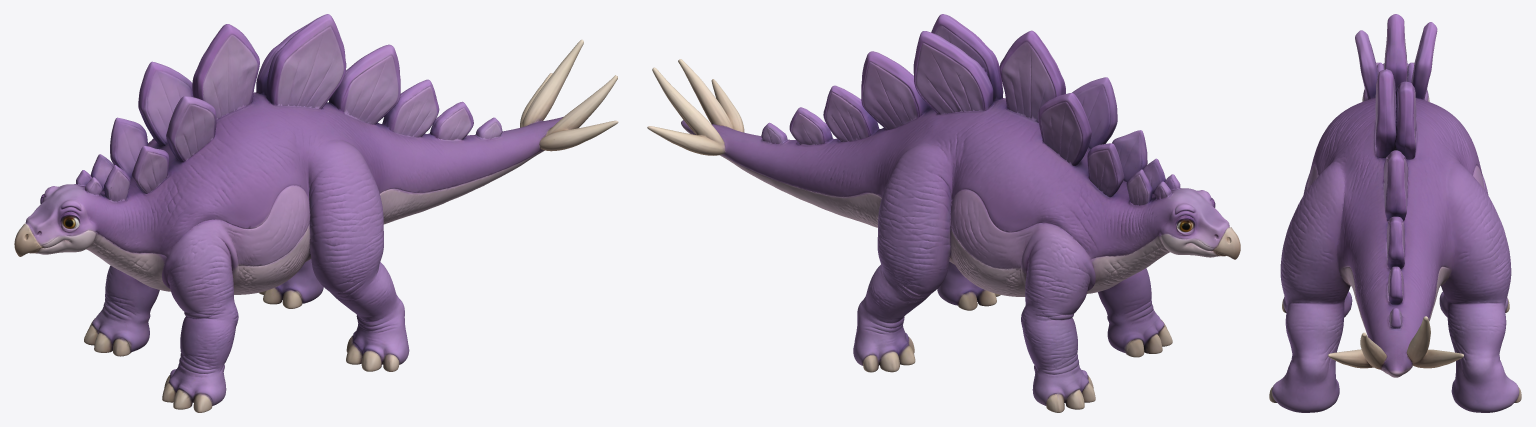
Rendered from stegosaurus-tripo.glb.
3 views of the same model, side by side, from view 1: azimuth 30°, elevation 25°; view 2: azimuth 150°, elevation 25°; view 3: azimuth 270°, elevation 25° (orthographic). The views are drawn at different scales.
Parts seen in each view (by area): view 1: tripo_part_0, tripo_part_2, tripo_part_6, tripo_part_3, tripo_part_7, tripo_part_8, tripo_part_4, tripo_part_9, tripo_part_5, tripo_part_12, tripo_part_13, tripo_part_11 (+6 smaller); view 2: tripo_part_0, tripo_part_1, tripo_part_4, tripo_part_3, tripo_part_7, tripo_part_6, tripo_part_8, tripo_part_9, tripo_part_5, tripo_part_10, tripo_part_11, tripo_part_12 (+6 smaller); view 3: tripo_part_0, tripo_part_1, tripo_part_2, tripo_part_7, tripo_part_9, tripo_part_10, tripo_part_8, tripo_part_5, tripo_part_13, tripo_part_12, tripo_part_11, tripo_part_16 (+2 smaller).
Part boxes in pixels (x1=…): tripo_part_0: x1=89, y1=92, x2=563, y2=294; tripo_part_2: x1=308, y1=139, x2=409, y2=371; tripo_part_6: x1=162, y1=219, x2=240, y2=412; tripo_part_3: x1=14, y1=170, x2=170, y2=291; tripo_part_7: x1=256, y1=14, x2=346, y2=109; tripo_part_8: x1=192, y1=24, x2=259, y2=119; tripo_part_4: x1=84, y1=265, x2=159, y2=356; tripo_part_9: x1=329, y1=44, x2=400, y2=124; tripo_part_5: x1=138, y1=61, x2=193, y2=145; tripo_part_12: x1=166, y1=96, x2=216, y2=162; tripo_part_13: x1=539, y1=75, x2=618, y2=151; tripo_part_11: x1=382, y1=79, x2=439, y2=137; tripo_part_0: x1=681, y1=98, x2=1166, y2=296; tripo_part_1: x1=853, y1=143, x2=952, y2=372; tripo_part_4: x1=1019, y1=222, x2=1095, y2=412; tripo_part_3: x1=1087, y1=174, x2=1240, y2=293; tripo_part_7: x1=913, y1=14, x2=1003, y2=114; tripo_part_6: x1=1098, y1=268, x2=1172, y2=357; tripo_part_8: x1=999, y1=30, x2=1065, y2=122; tripo_part_9: x1=861, y1=51, x2=930, y2=129; tripo_part_5: x1=1038, y1=93, x2=1091, y2=165; tripo_part_10: x1=647, y1=67, x2=725, y2=155; tripo_part_11: x1=823, y1=85, x2=879, y2=142; tripo_part_12: x1=1072, y1=77, x2=1117, y2=148; tripo_part_0: x1=1306, y1=98, x2=1484, y2=377; tripo_part_1: x1=1441, y1=161, x2=1521, y2=412; tripo_part_2: x1=1269, y1=162, x2=1350, y2=412; tripo_part_7: x1=1375, y1=69, x2=1416, y2=159; tripo_part_9: x1=1383, y1=150, x2=1408, y2=220; tripo_part_10: x1=1406, y1=316, x2=1463, y2=368; tripo_part_8: x1=1384, y1=14, x2=1407, y2=88; tripo_part_5: x1=1411, y1=22, x2=1437, y2=99; tripo_part_13: x1=1328, y1=332, x2=1386, y2=369; tripo_part_12: x1=1355, y1=30, x2=1378, y2=99; tripo_part_11: x1=1386, y1=216, x2=1404, y2=269; tripo_part_16: x1=1388, y1=266, x2=1403, y2=305.
Size of the model in its own units: 0.98 by 0.5242 by 0.3579.
Materials: 1 (1 with a texture image).
